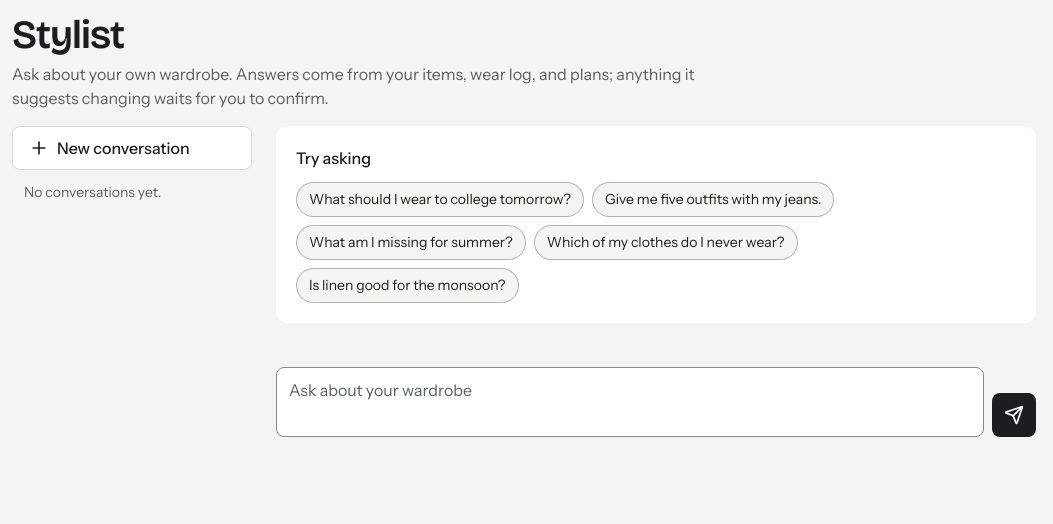
Test: keeps the question when the stylist can't answer
In the text box named "Message": (630, 402) [276,367,984,437], type "Something for a wedding?"
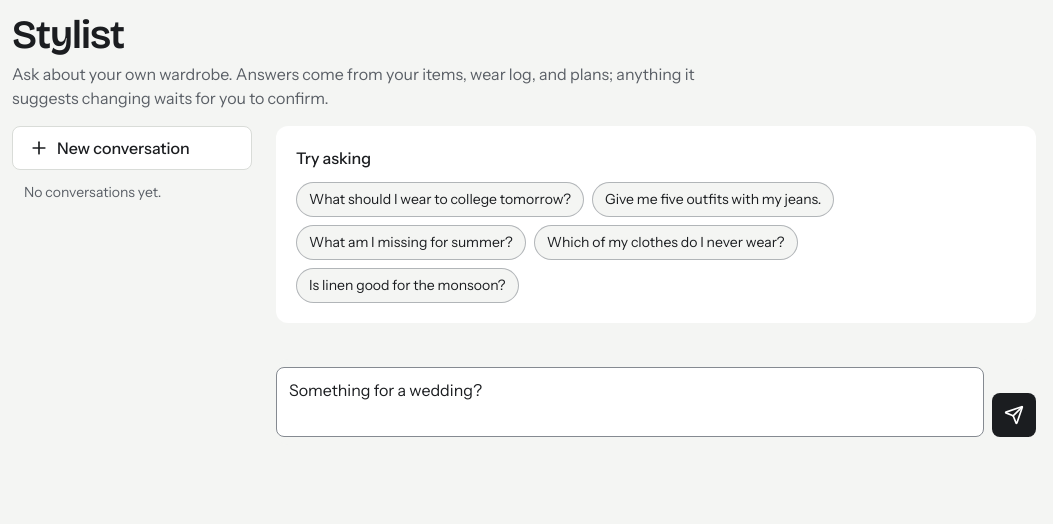
Click the button named "Send": (1014, 415) [992,393,1036,437]
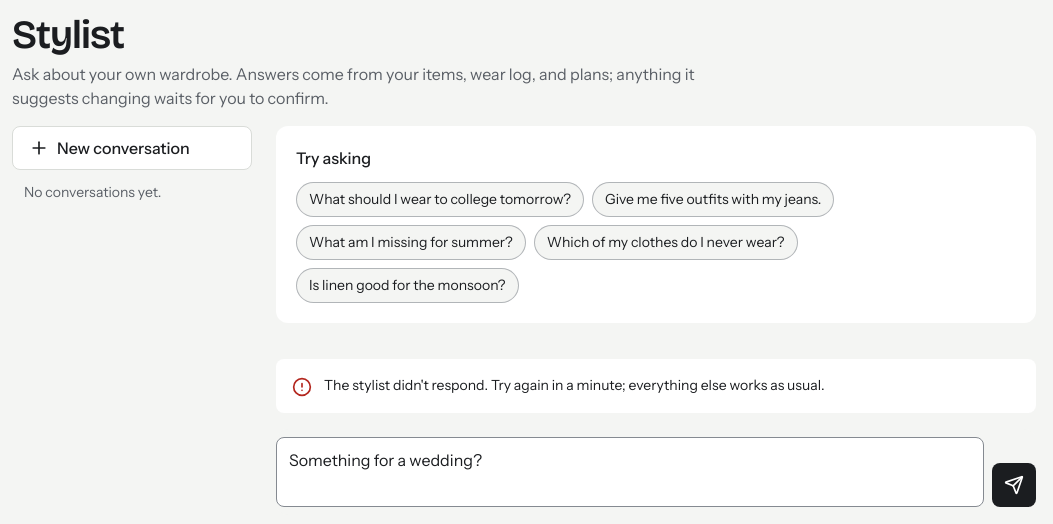
Check: the text "didn't respond" is shown, box [324,376,825,394]
